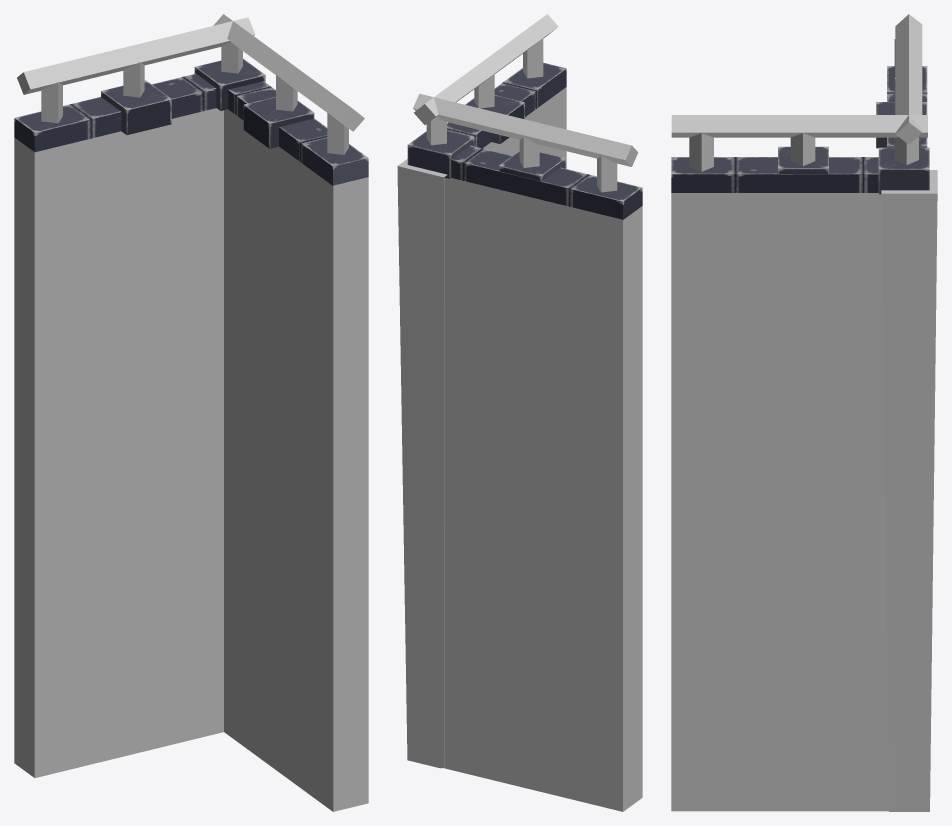
File: edge_outer_corner.FBX
3 renders of one model, left to right at view 1: azimuth 30°, elevation 25°; view 2: azimuth 150°, elevation 25°; view 3: azimuth 270°, elevation 25°, orthographic. The views are drawn at different scales.
Parts seen in each view (by area): view 1: outer_corner001, outer_corner_rand001; view 2: outer_corner001, outer_corner_rand001; view 3: outer_corner001, outer_corner_rand001.
Boxes of the visible parts, <box> form: outer_corner001: <box>14,14,368,811</box>; outer_corner_rand001: <box>14,58,368,185</box>; outer_corner001: <box>397,14,642,811</box>; outer_corner_rand001: <box>407,62,642,219</box>; outer_corner001: <box>671,14,937,811</box>; outer_corner_rand001: <box>671,66,929,194</box>.
Size of the model in its own units: 52 by 149 by 52.02.
